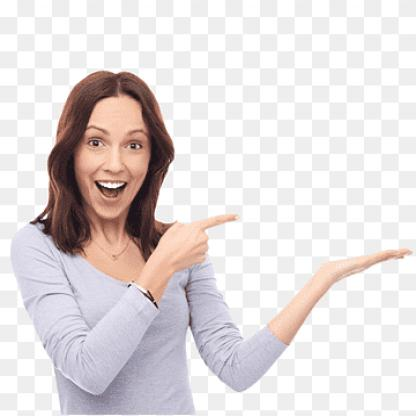Left: (160, 207, 245, 276)
